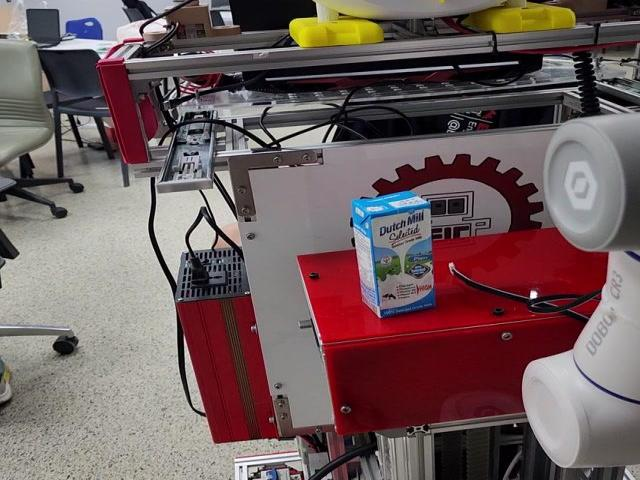drink_box: (331, 177, 455, 328)
